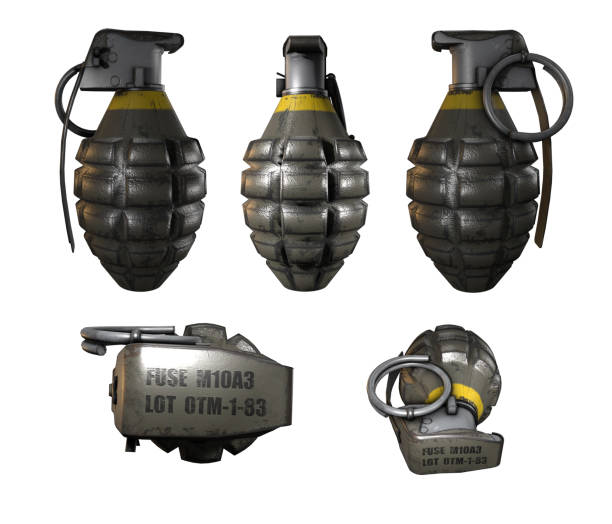e1: (405, 25, 575, 290), (50, 25, 206, 294), (242, 34, 370, 292), (78, 323, 293, 464), (366, 326, 507, 475)
